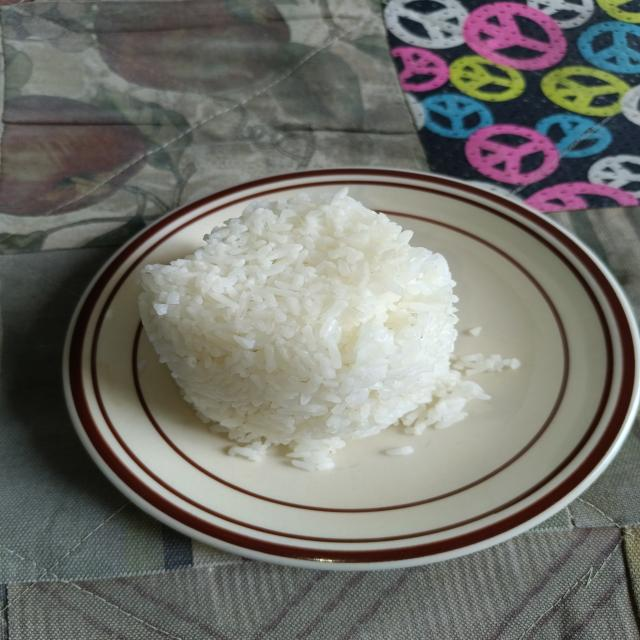Chicken -Chicken Inasal-: (166, 182, 460, 444)
